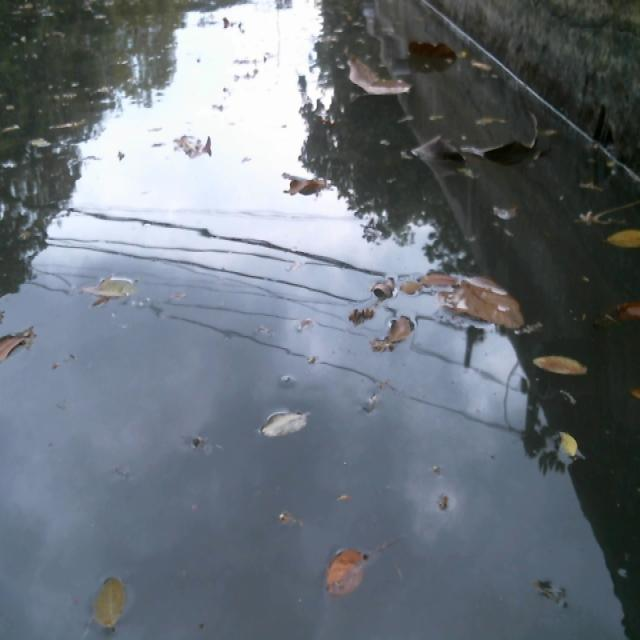Big-leaf: (430, 261, 538, 338), (465, 109, 541, 161), (342, 51, 414, 103), (401, 29, 464, 73), (409, 137, 472, 175)
Small-leaf: (318, 541, 369, 604), (86, 569, 133, 634), (528, 345, 592, 383), (255, 404, 312, 442), (71, 268, 141, 297), (0, 316, 38, 369), (276, 172, 332, 200), (597, 291, 640, 326), (547, 427, 583, 465), (383, 310, 418, 349), (171, 130, 215, 160), (275, 497, 310, 530), (600, 222, 640, 245)
